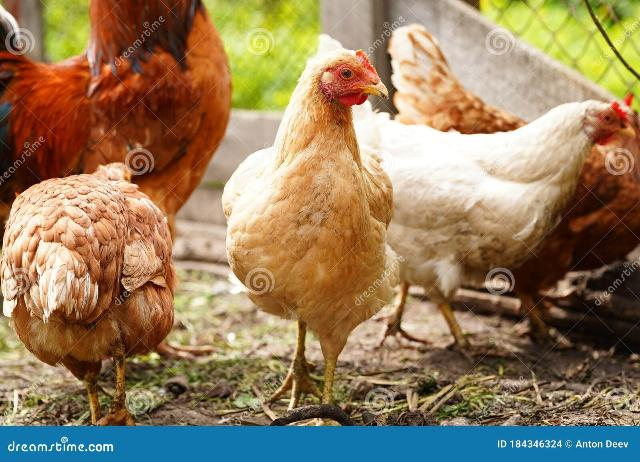Chicken: (349, 99, 637, 362), (223, 50, 403, 411), (389, 26, 640, 275), (0, 1, 233, 230), (2, 162, 174, 428)
